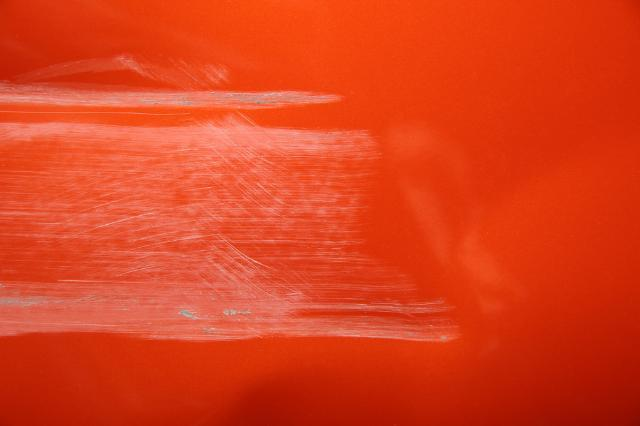scratch: (0, 47, 473, 348)
